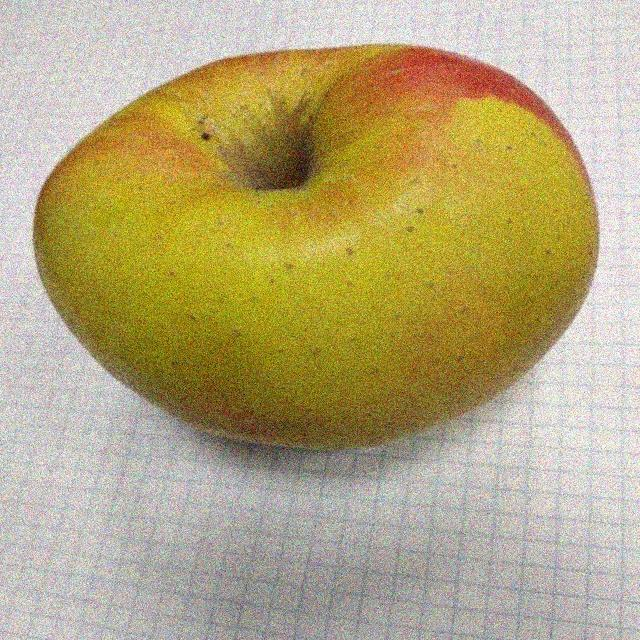green apple: (47, 42, 608, 469)
